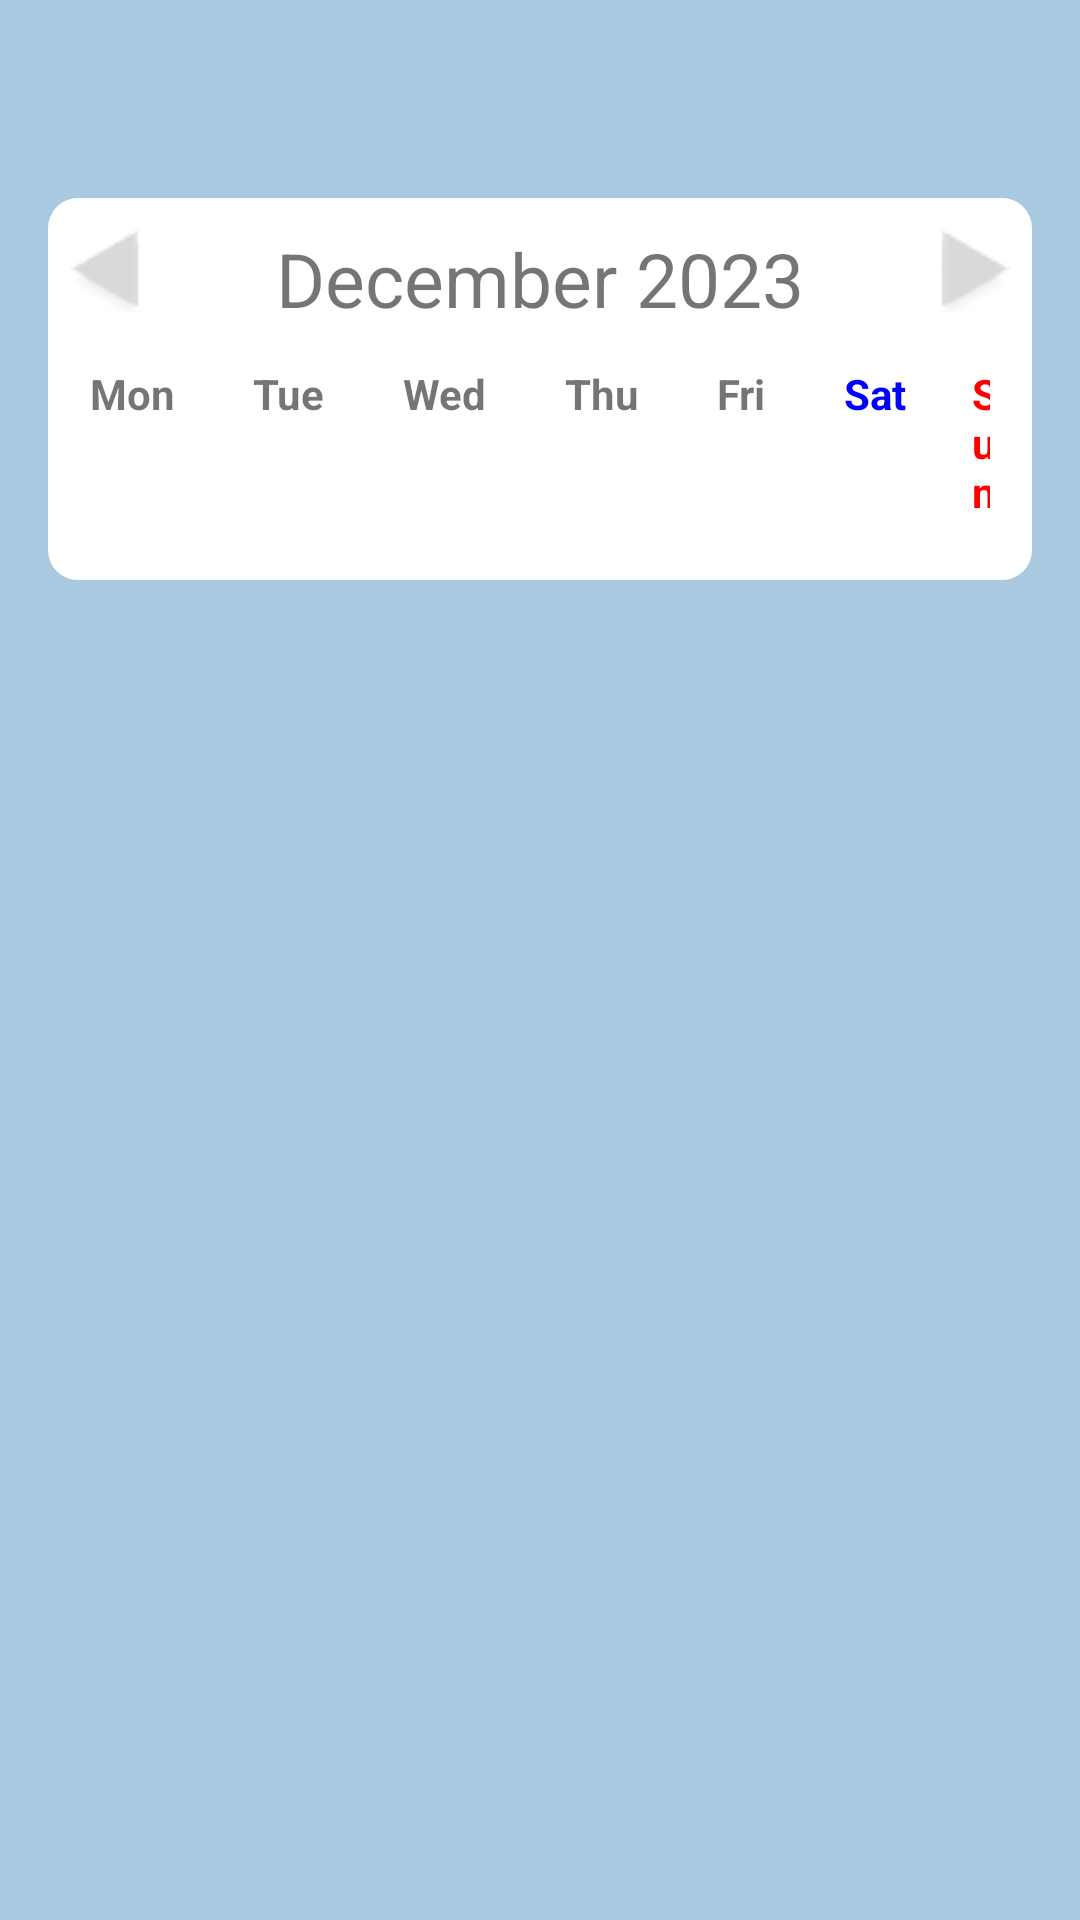

Screen size 1080 x 1920. Icon name, then its box in pixels as (x1, y1, x2, y2):
calender left: (74, 234, 138, 305)
calender right: (943, 234, 1006, 305)
